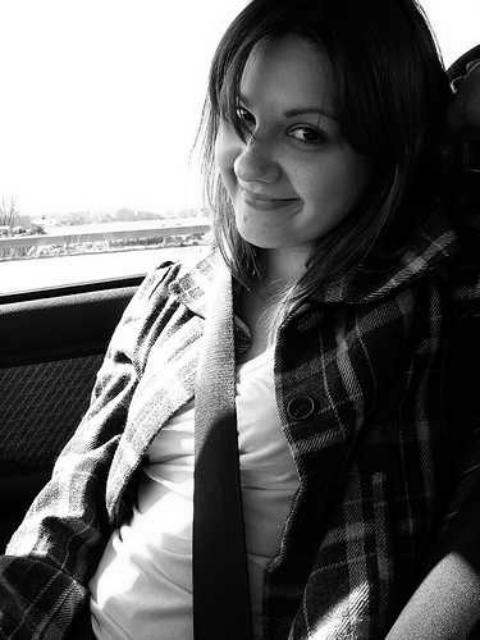SafeDriving: (278, 112, 333, 152)
Seatbelt: (187, 230, 259, 640)
